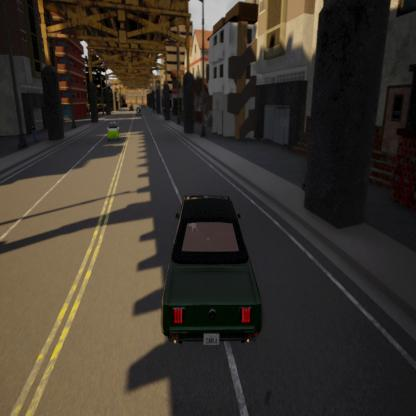Cars: (152, 179, 268, 356), (106, 117, 121, 144), (135, 105, 144, 119)
Pedestrian: (30, 124, 38, 144)
